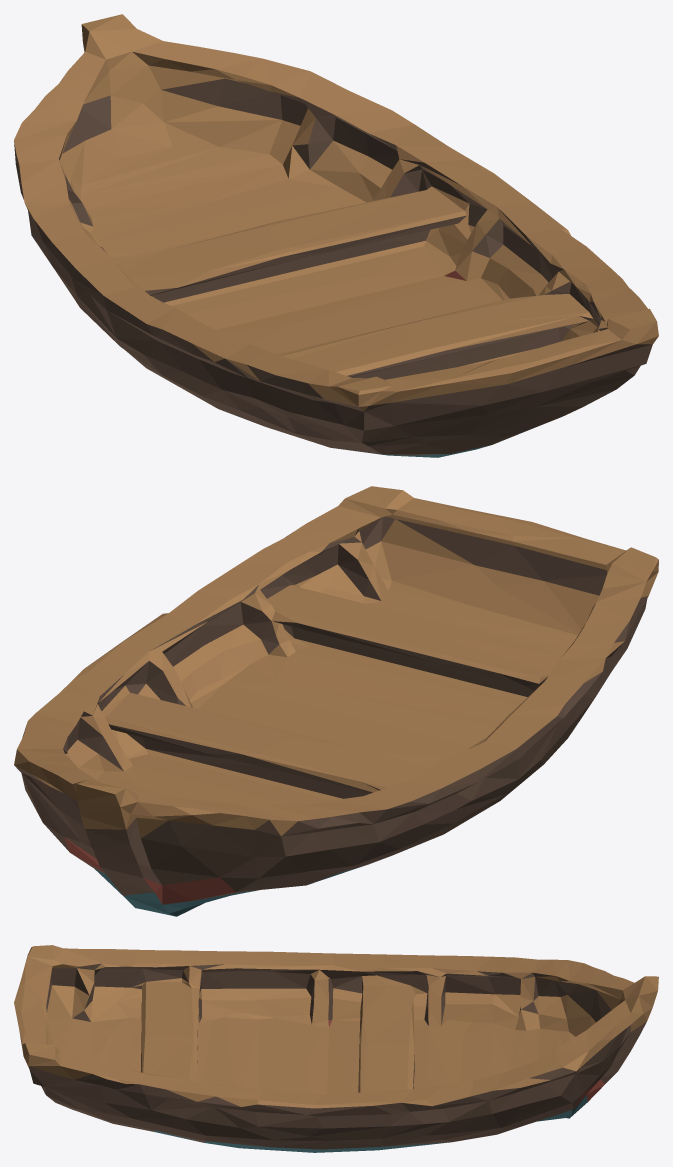
The model's file is ghe_cheo.glb.
3 views of the same model, one above another, from view 1: azimuth 30°, elevation 25°; view 2: azimuth 150°, elevation 25°; view 3: azimuth 270°, elevation 25° (orthographic). The views are drawn at different scales.
Parts seen in each view (by area): view 1: ghe_cheo; view 2: ghe_cheo; view 3: ghe_cheo.
Part boxes in pixels (x1=…): ghe_cheo: x1=14, y1=14, x2=658, y2=457; ghe_cheo: x1=14, y1=486, x2=658, y2=916; ghe_cheo: x1=14, y1=945, x2=658, y2=1152.
Bounding box in the file's own units: 1.72 × 0.72 × 3.05.
